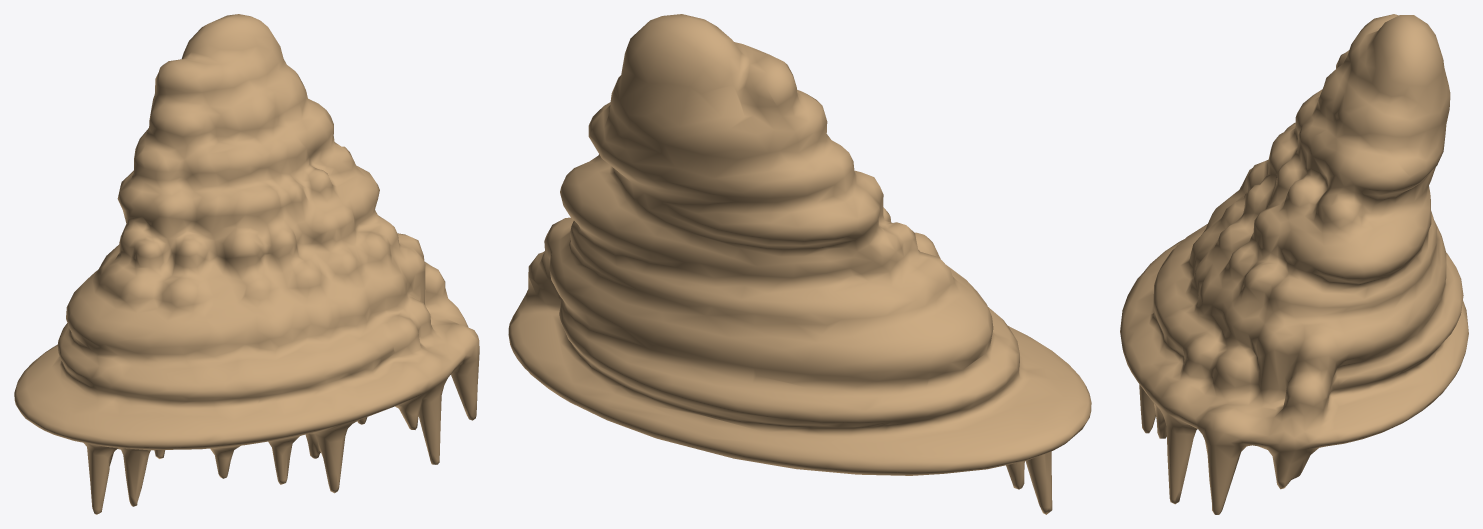
File: flowstone.glb
3 renders of one model, left to right at view 1: azimuth 30°, elevation 25°; view 2: azimuth 150°, elevation 25°; view 3: azimuth 270°, elevation 25°, orthographic. The views are drawn at different scales.
Visible parts, largest first — view 1: calcite_0; view 2: calcite_0; view 3: calcite_0.
Part boxes in pixels (x1=…): calcite_0: x1=14, y1=14, x2=479, y2=514; calcite_0: x1=508, y1=14, x2=1091, y2=514; calcite_0: x1=1120, y1=14, x2=1468, y2=514.
Size of the model in its own units: 3.66 by 3.21 by 2.36.
